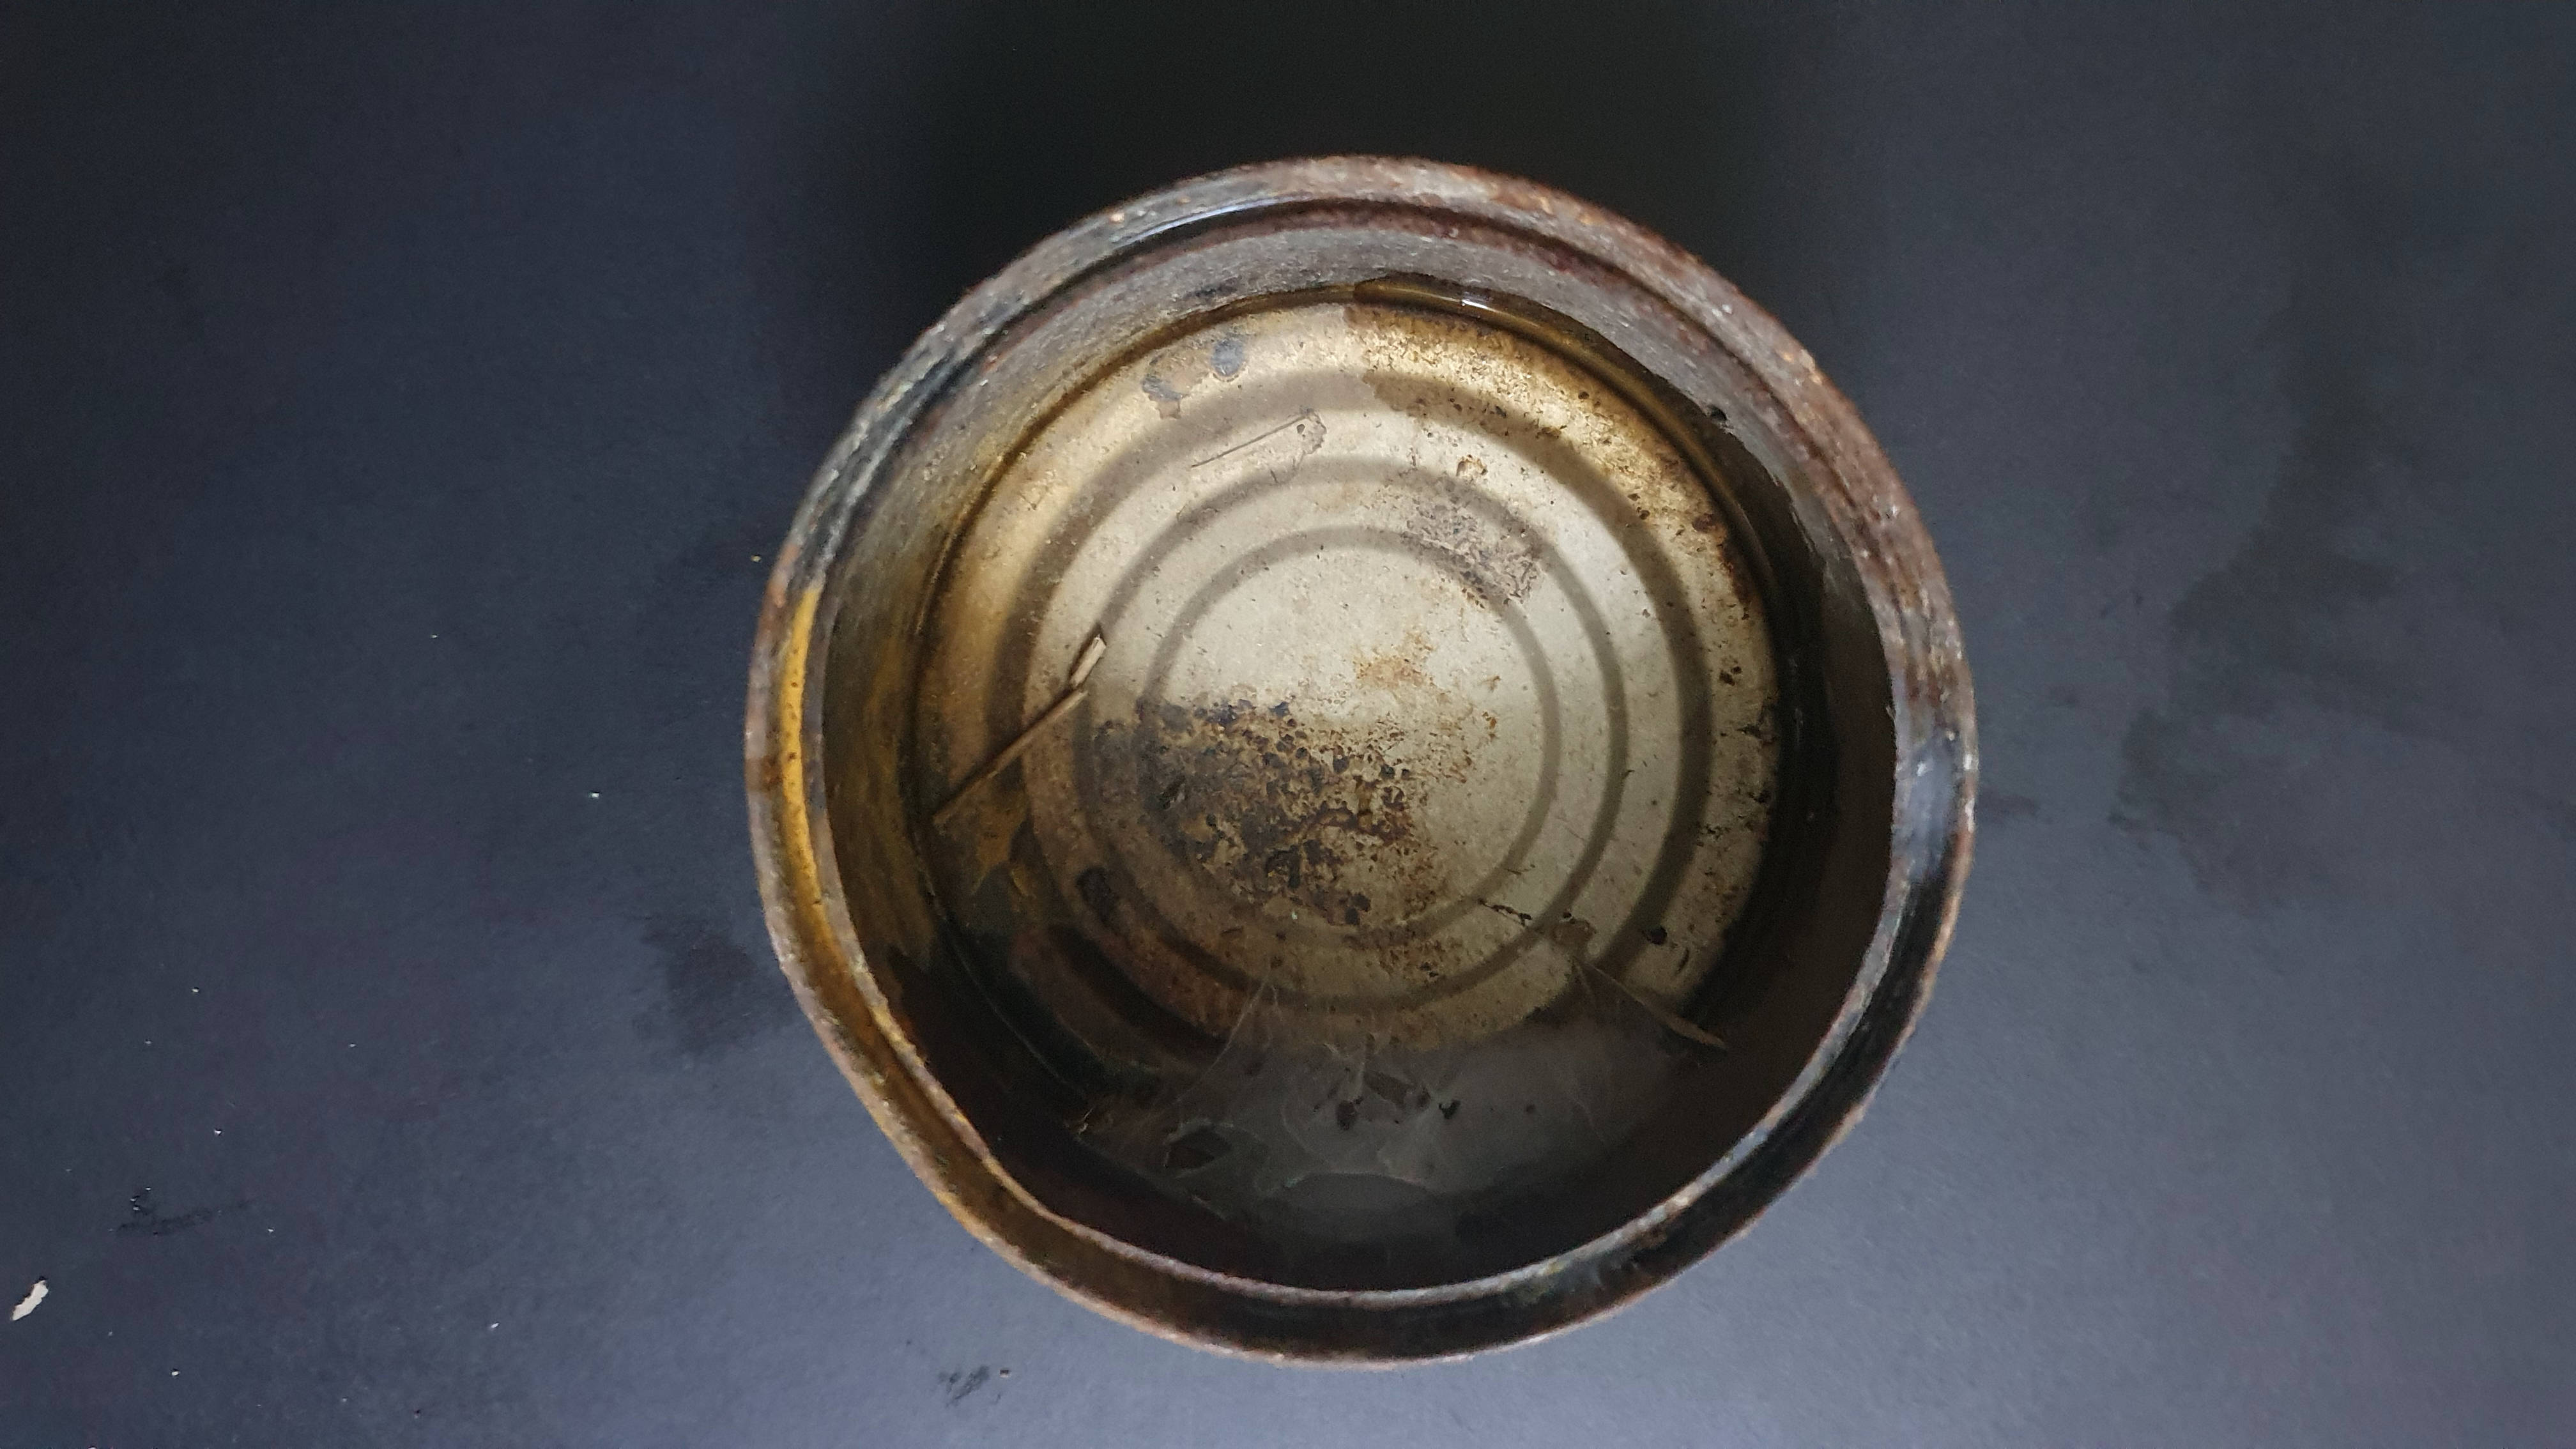metal: (699, 96, 2035, 1389)
